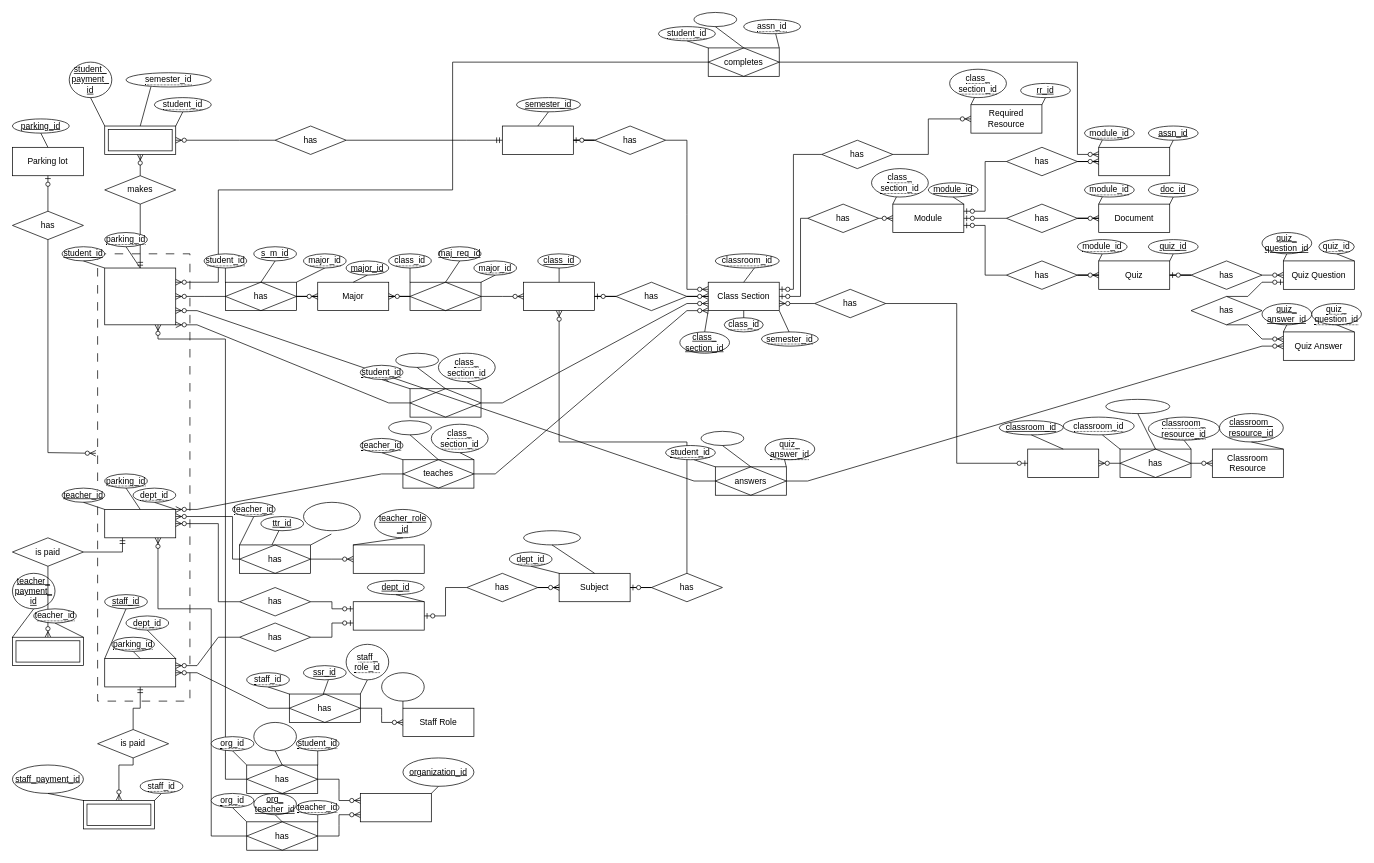
The diagram is 1374 pixels wide and 863 high, and some of its shapes have lost their labels. Here are the shapes that lost their labels. From the top down, the centre of each, then its label:
At [715,19]: "sca_id".
At [140,139]: "Student Payment".
At [537,139]: "Semester".
At [1134,161]: "Assignment".
At [140,296]: "Student".
At [445,296]: "requires".
At [559,296]: "Class".
At [416,360]: "css_id".
At [445,402]: "takes".
At [1137,406]: "ccr_id".
At [409,427]: "cst_id".
At [722,438]: "sqa_id".
At [1063,462]: "Classroom".
At [140,523]: "Teacher".
At [331,516]: "teacher_ role_id".
At [551,537]: "subject_id".
At [388,558]: "Teacher Role".
At [388,615]: "Department".
At [47,651]: "Teacher Payment".
At [140,672]: "Staff Member".
At [402,686]: "staff_role _id".
At [274,736]: "org_ student_id".
At [118,814]: "Staff Payment".
At [395,807]: "Organization".
